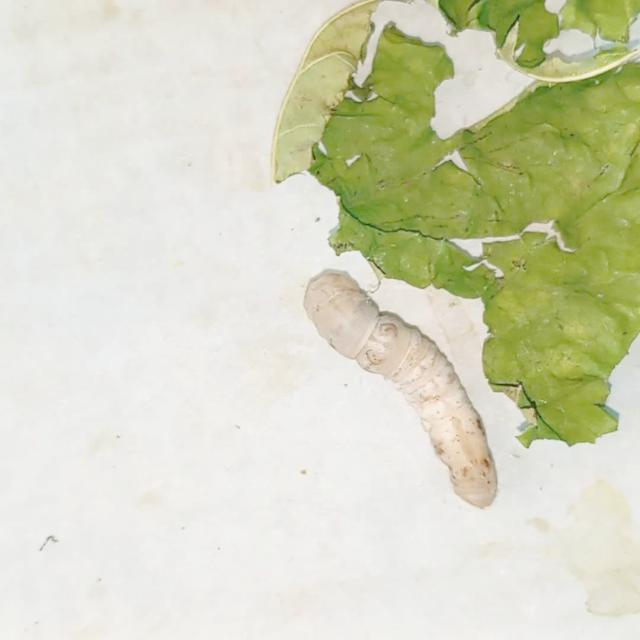Grasserie: (295, 254, 506, 519)
